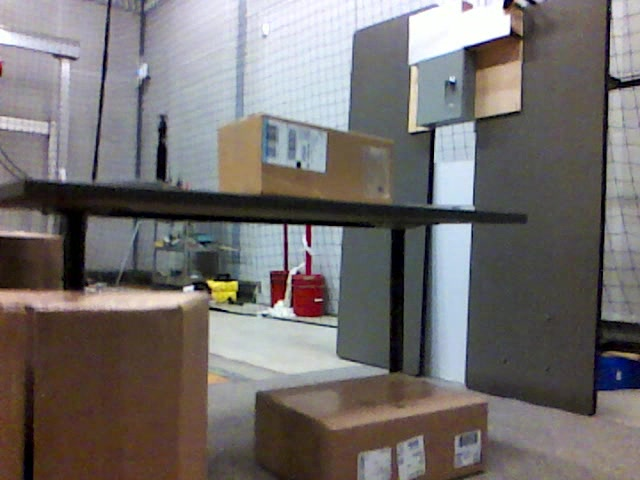box: (1, 289, 209, 480), (256, 372, 488, 480), (219, 116, 397, 202), (1, 231, 62, 290)
